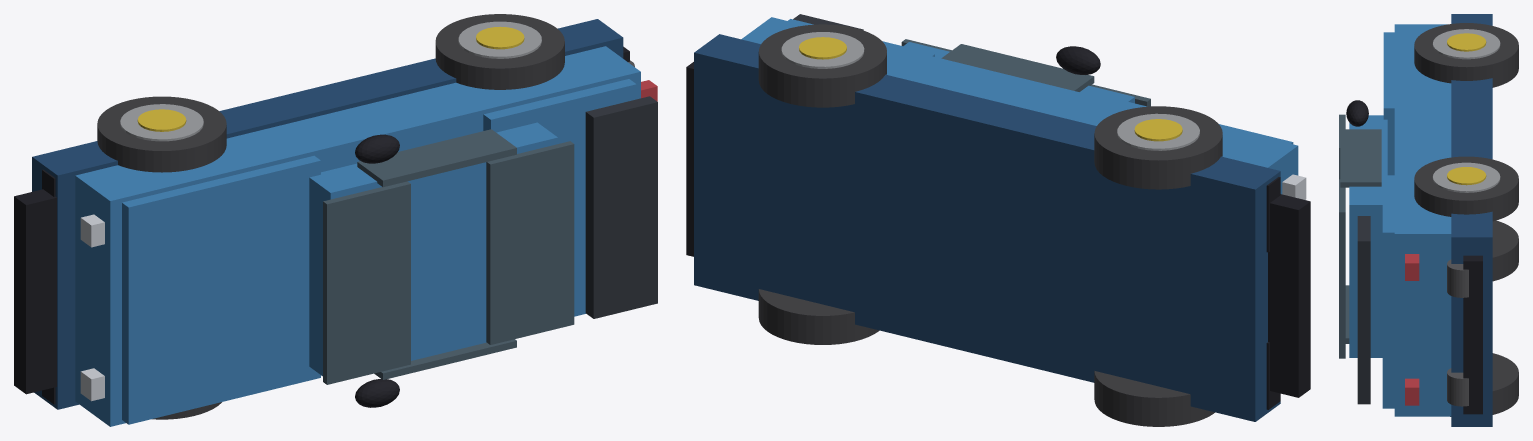
The model's file is porsche_style_3d_model_blue.glb.
The picture shows the model from 3 angles, left to right: view 1: azimuth 30°, elevation 25°; view 2: azimuth 150°, elevation 25°; view 3: azimuth 270°, elevation 25°; orthographic projection. The views are drawn at different scales.
Parts seen in each view (by area): view 1: hood, main_body, roof, world, rear_window, front_windshield, rear_spoiler, lower_body, front_grille, rear_deck, right_side_window, left_side_window (+4 smaller); view 2: lower_body, world, main_body, front_grille, right_side_window, rear_diffuser, right_mirror, roof; view 3: main_body, world, lower_body, roof, rear_deck, rear_diffuser, rear_spoiler, right_side_window, hood, rear_window, right_mirror, rear_light (+3 smaller).
Boxes of the visible parts, x1,y1,x2,y2 form: hood: [122, 155, 320, 424]; main_body: [75, 46, 640, 426]; roof: [309, 122, 557, 376]; world: [97, 14, 634, 419]; rear_window: [486, 141, 574, 344]; front_windshield: [323, 181, 410, 384]; rear_spoiler: [585, 96, 657, 318]; lower_body: [32, 19, 623, 409]; front_grille: [14, 189, 56, 394]; rear_deck: [483, 79, 636, 316]; right_side_window: [357, 129, 516, 187]; left_side_window: [374, 339, 516, 379]; lower_body: [694, 34, 1280, 421]; world: [758, 24, 1222, 426]; main_body: [741, 17, 1298, 194]; front_grille: [1268, 194, 1310, 397]; right_side_window: [941, 44, 1094, 91]; rear_diffuser: [686, 62, 693, 256]; right_mirror: [1056, 46, 1100, 74]; roof: [903, 42, 1134, 103]; main_body: [1394, 24, 1451, 416]; world: [1414, 23, 1518, 416]; lower_body: [1451, 14, 1492, 426]; roof: [1349, 115, 1387, 357]; rear_deck: [1382, 175, 1394, 408]; rear_diffuser: [1463, 255, 1482, 414]; rear_spoiler: [1357, 216, 1370, 404]; right_side_window: [1340, 129, 1381, 187]; hood: [1383, 32, 1394, 175]; rear_window: [1339, 179, 1345, 358]; right_mirror: [1346, 100, 1368, 126]; rear_light: [1405, 378, 1419, 405].
Size of the model in its own units: 5.25 by 2.27 by 1.65.
